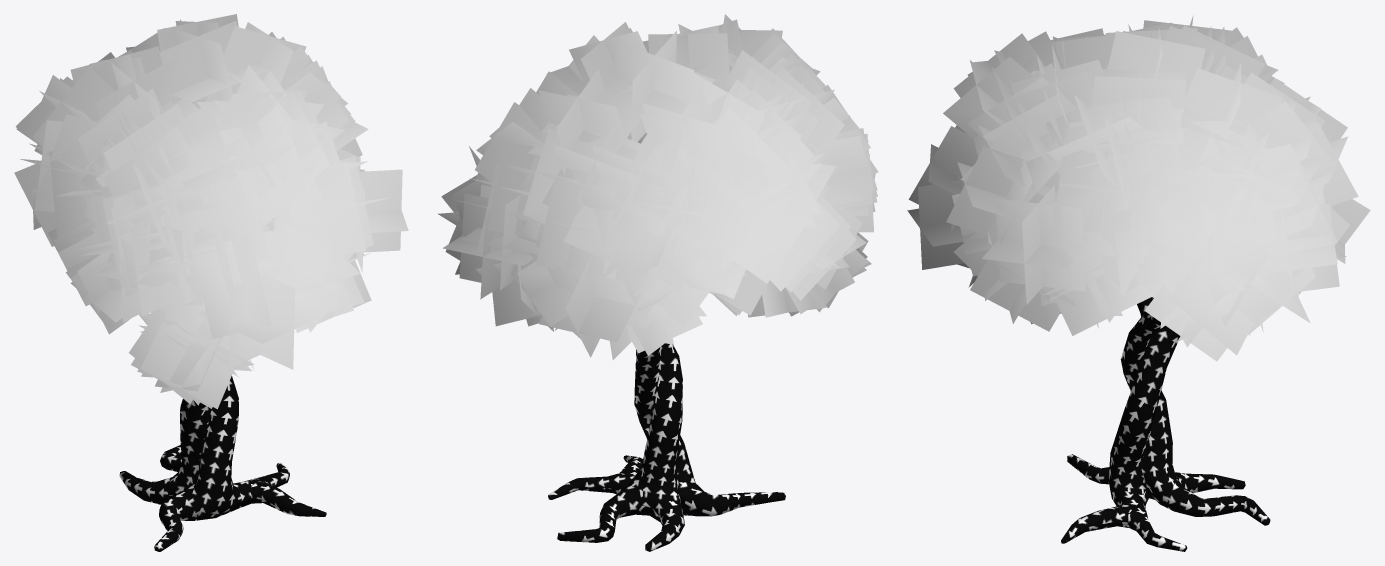
File: SM_Tree1.fbx
3 renders of one model, left to right at view 1: azimuth 30°, elevation 25°; view 2: azimuth 150°, elevation 25°; view 3: azimuth 270°, elevation 25°, orthographic.
Visible parts, largest first — view 1: Tree1Leaves, Tree1; view 2: Tree1Leaves, Tree1; view 3: Tree1Leaves, Tree1.
Boxes of the visible parts, x1,y1,x2,y2 form: Tree1Leaves: (14,14,408,409); Tree1: (119,376,326,551); Tree1Leaves: (437,14,878,359); Tree1: (548,343,785,551); Tree1Leaves: (907,15,1370,361); Tree1: (1061,297,1270,551).
Size of the model in its own units: 540 by 696 by 606.
